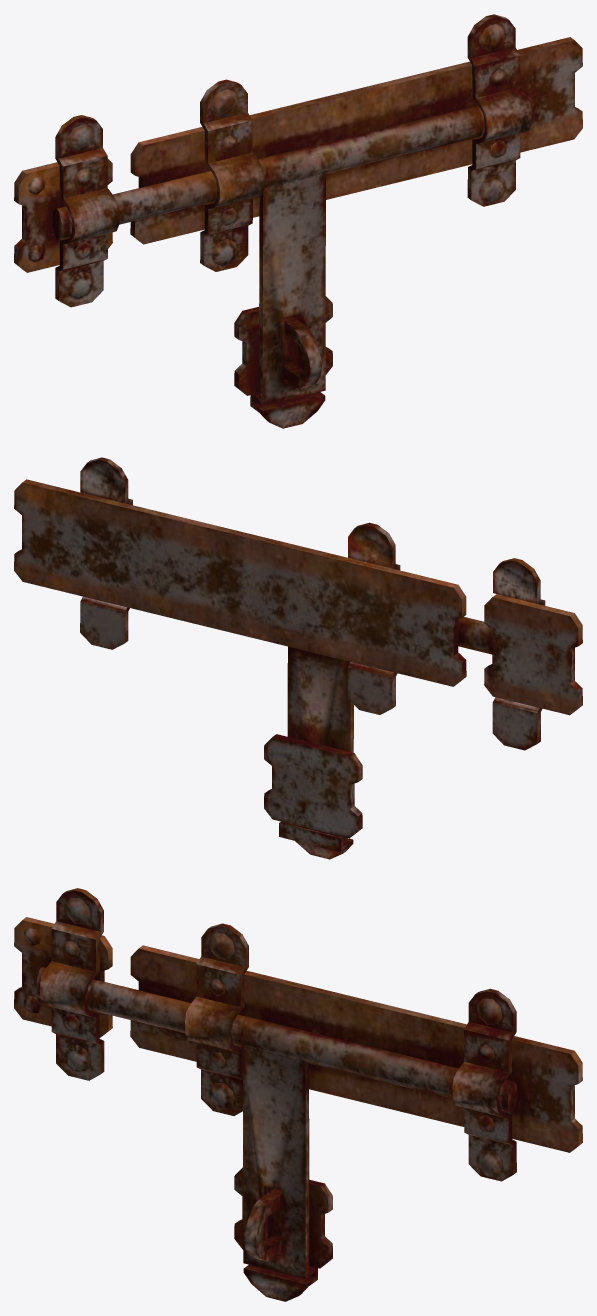
The model's file is old_padlock.glb.
The picture shows the model from 3 angles, top to bottom: view 1: azimuth 30°, elevation 25°; view 2: azimuth 150°, elevation 25°; view 3: azimuth 330°, elevation 25°; orthographic projection.
Parts seen in each view (by area): view 1: old_padlock; view 2: old_padlock; view 3: old_padlock.
Part boxes in pixels (<box>): old_padlock: <box>14,14,582,428</box>; old_padlock: <box>14,457,582,859</box>; old_padlock: <box>14,888,582,1301</box>.
Size of what is drawn, in the model's own units: 0.15 by 0.0895 by 0.0166.
1 material, 1 textured.
